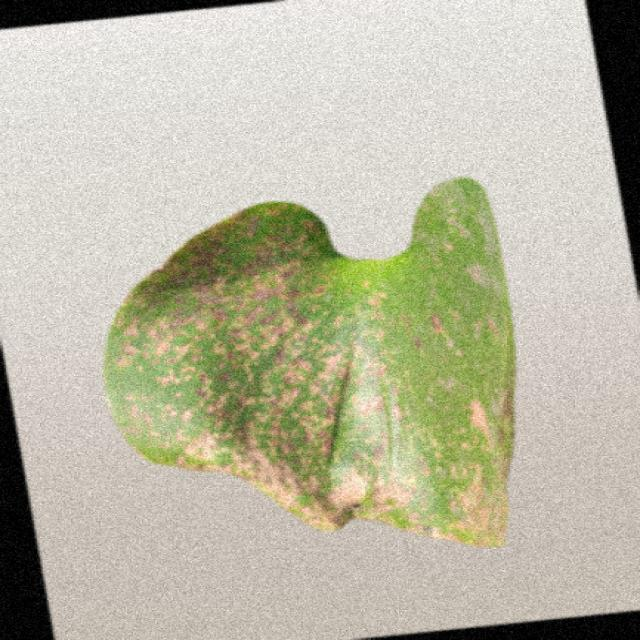daun berpenyakit bercak: (103, 179, 515, 546)
